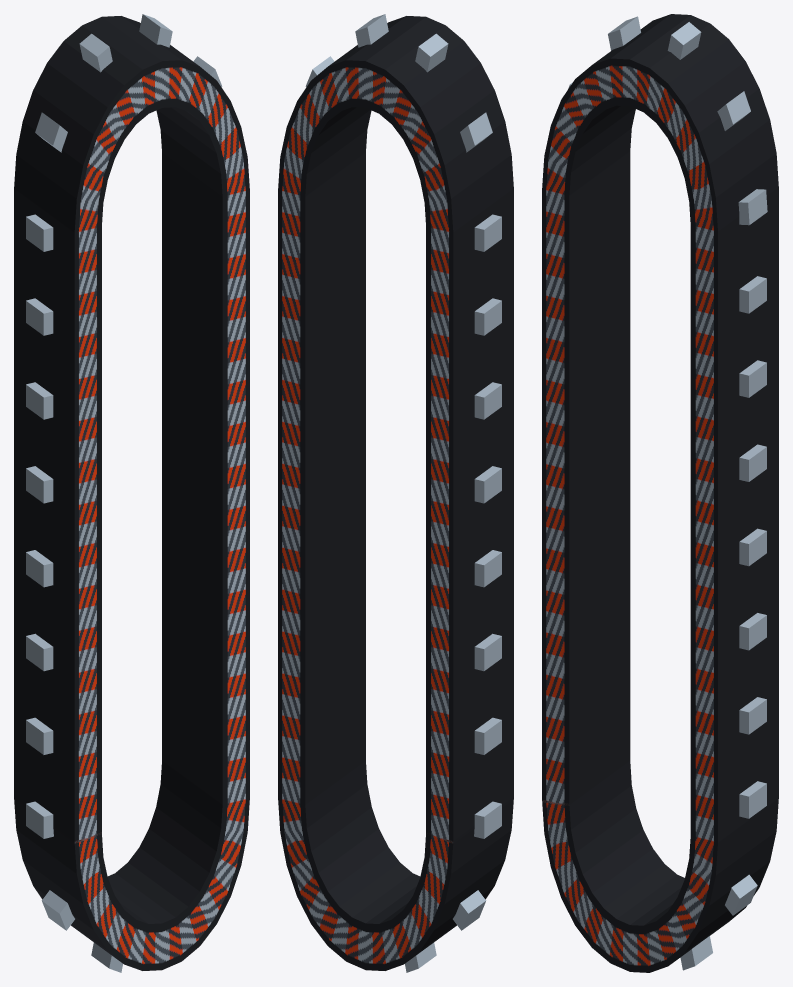
File: chainsaw_chain.obj
The picture shows the model from 3 angles, left to right: view 1: azimuth 30°, elevation 25°; view 2: azimuth 150°, elevation 25°; view 3: azimuth 330°, elevation 25°; orthographic projection.
Parts seen in each view (by area): view 1: ChainsawChainFrame_0; view 2: ChainsawChainFrame_0; view 3: ChainsawChainFrame_0.
Boxes of the visible parts, <box> form: ChainsawChainFrame_0: <box>14,14,249,972</box>; ChainsawChainFrame_0: <box>278,14,513,972</box>; ChainsawChainFrame_0: <box>542,14,778,972</box>.
Bounding box in the file's own units: 0.65 × 2.98 × 0.35.
Materials: 2 (2 with a texture image).
